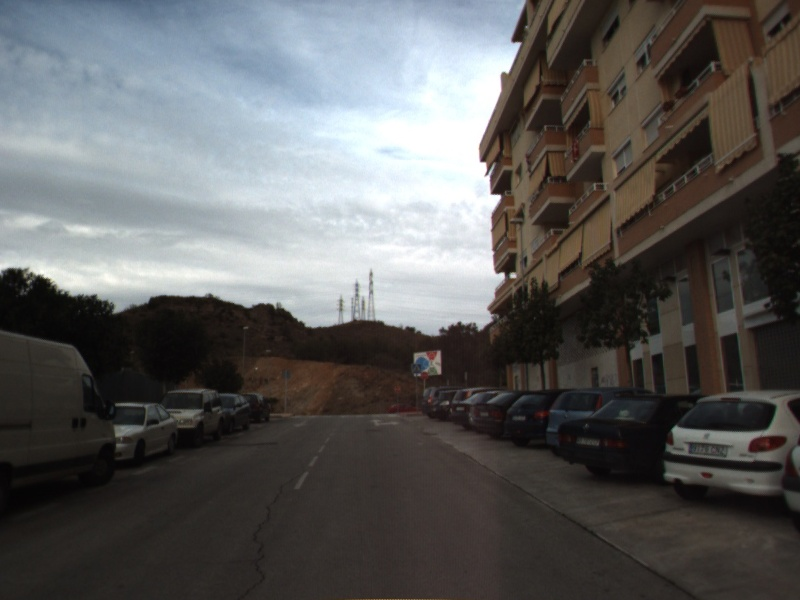STRAIGHT_RIGHT: (367, 416, 402, 428)
